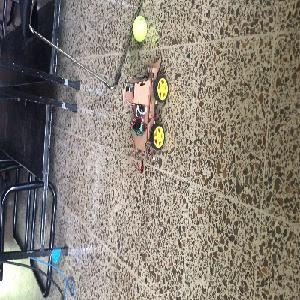Ball: (132, 15, 147, 41)
Robot: (123, 55, 169, 153)
